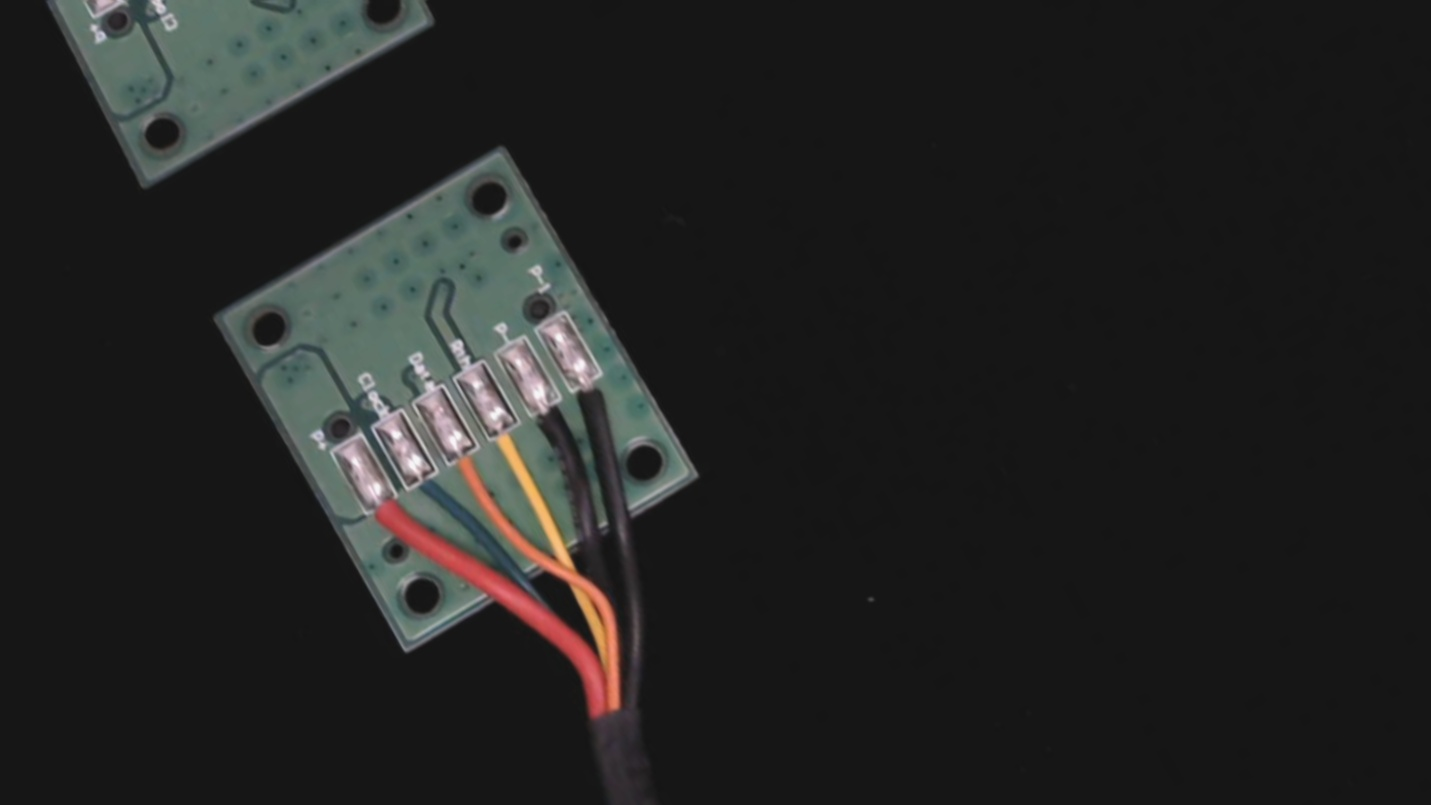Black: (511, 381, 599, 478)
Black1: (556, 356, 638, 446)
Green: (391, 450, 468, 533)
Orange: (430, 427, 514, 522)
Red: (348, 472, 430, 561)
Yellow: (471, 404, 559, 501)
